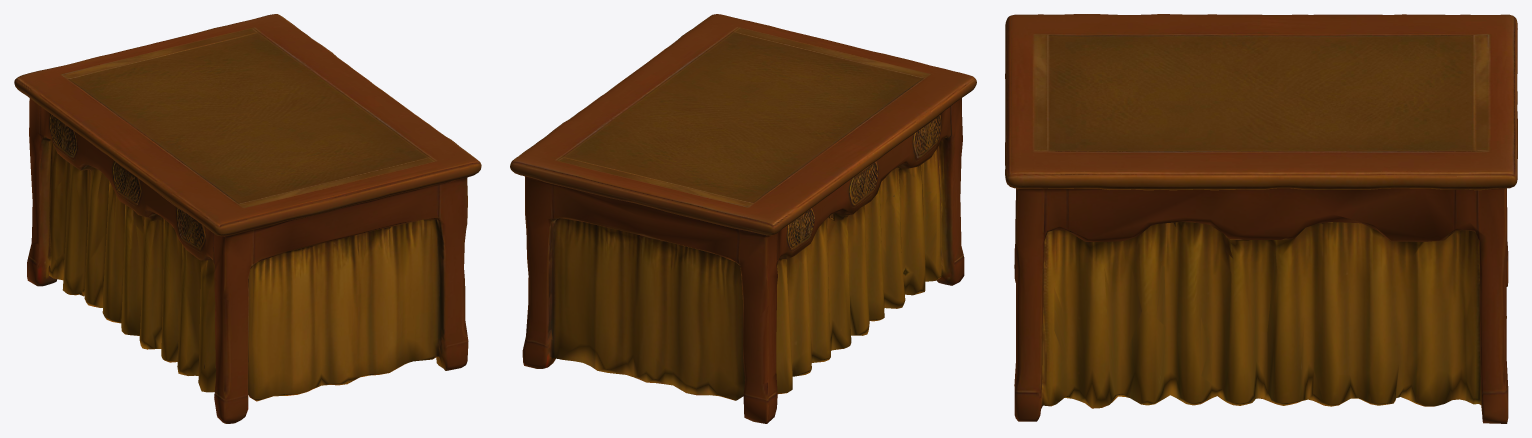
Rendered from Table.fbx.
The picture shows the model from 3 angles, left to right: view 1: azimuth 30°, elevation 25°; view 2: azimuth 150°, elevation 25°; view 3: azimuth 270°, elevation 25°; orthographic projection. The views are drawn at different scales.
Visible parts, largest first — view 1: Table; view 2: Table; view 3: Table.
Part boxes in pixels (left/top/right/bottom): Table: left=14, top=14, right=481, bottom=423; Table: left=510, top=14, right=976, bottom=423; Table: left=1005, top=14, right=1517, bottom=423.
Bounding box in the file's own units: 60.86 × 45.13 × 81.14.
1 material, 1 textured.
